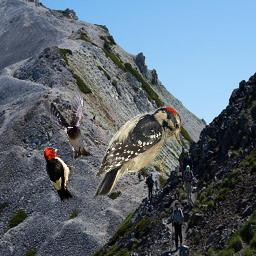Swallow: (43, 86, 92, 159)
Woodpecker: (85, 105, 181, 201), (43, 147, 77, 203)
